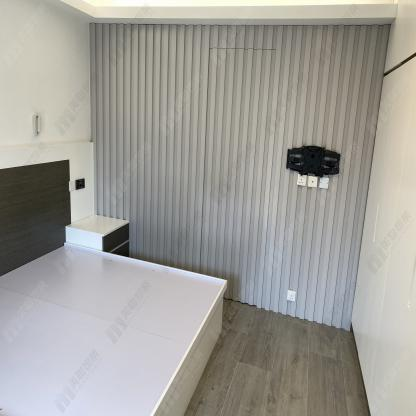Bed Frame: (0, 160, 229, 416)
